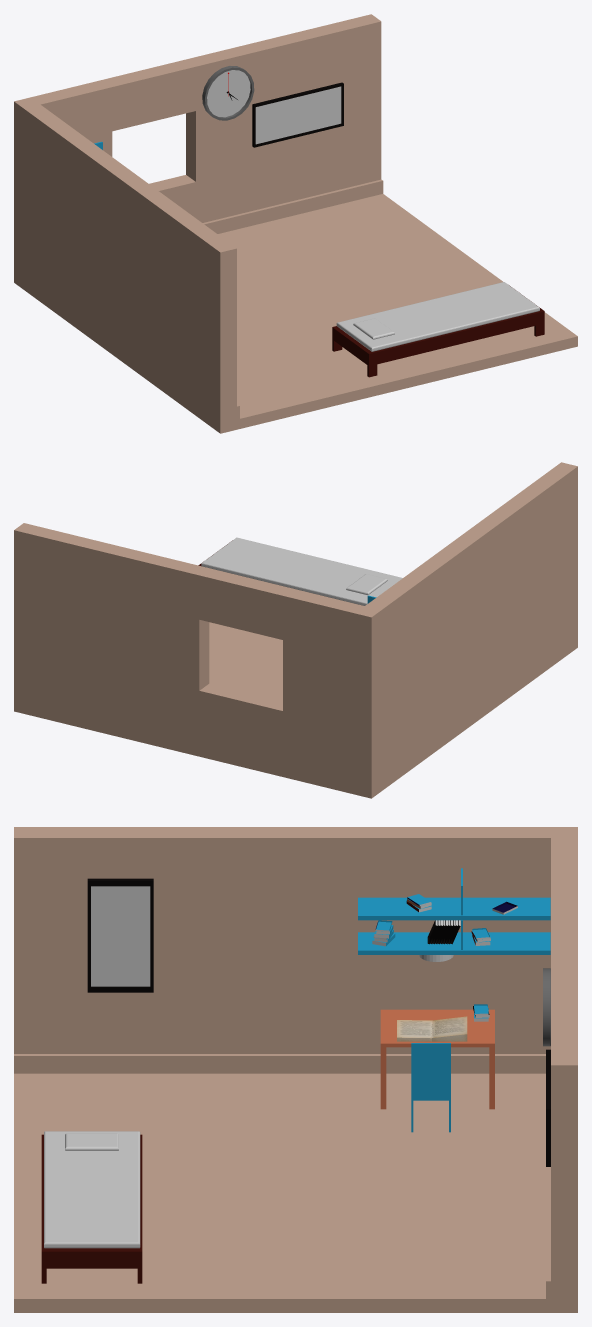
File: Room.obj
3 renders of one model, top to bottom at view 1: azimuth 30°, elevation 25°; view 2: azimuth 150°, elevation 25°; view 3: azimuth 270°, elevation 25°, orthographic. The views are drawn at different scales.
Parts seen in each view (by area): view 1: room_Cube.005, Circle.016_Circle.006; view 2: room_Cube.005; view 3: room_Cube.005, room.001_Cube.001, BOOK'_Cube, Circle.016_Circle.006.
Boxes of the visible parts, x1=… form: room_Cube.005: x1=14, y1=14, x2=577, y2=433; Circle.016_Circle.006: x1=202, y1=66, x2=254, y2=120; room_Cube.005: x1=14, y1=462, x2=577, y2=798; room_Cube.005: x1=14, y1=827, x2=577, y2=1312; room.001_Cube.001: x1=411, y1=1043, x2=450, y2=1132; BOOK'_Cube: x1=397, y1=1016, x2=467, y2=1041; Circle.016_Circle.006: x1=543, y1=968, x2=550, y2=1046.
Size of the model in its own units: 16 by 7.75 by 16.
Materials: 16 (2 with a texture image).
